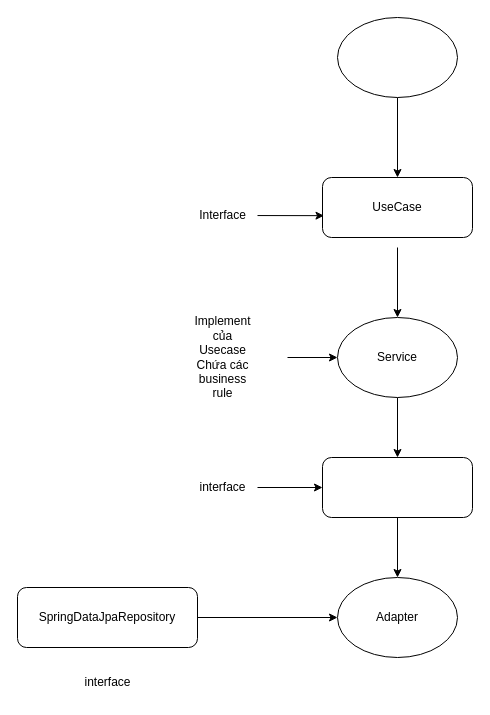
Image size: 490x715. Some labels were removed from this diagram. The shapes that lost their labels are listed below. From the top down, each one's box as (x1, y1, x2, y2) in pixels, then its label:
(336, 16, 458, 98): controller
(322, 456, 472, 518): Domain/Repository
